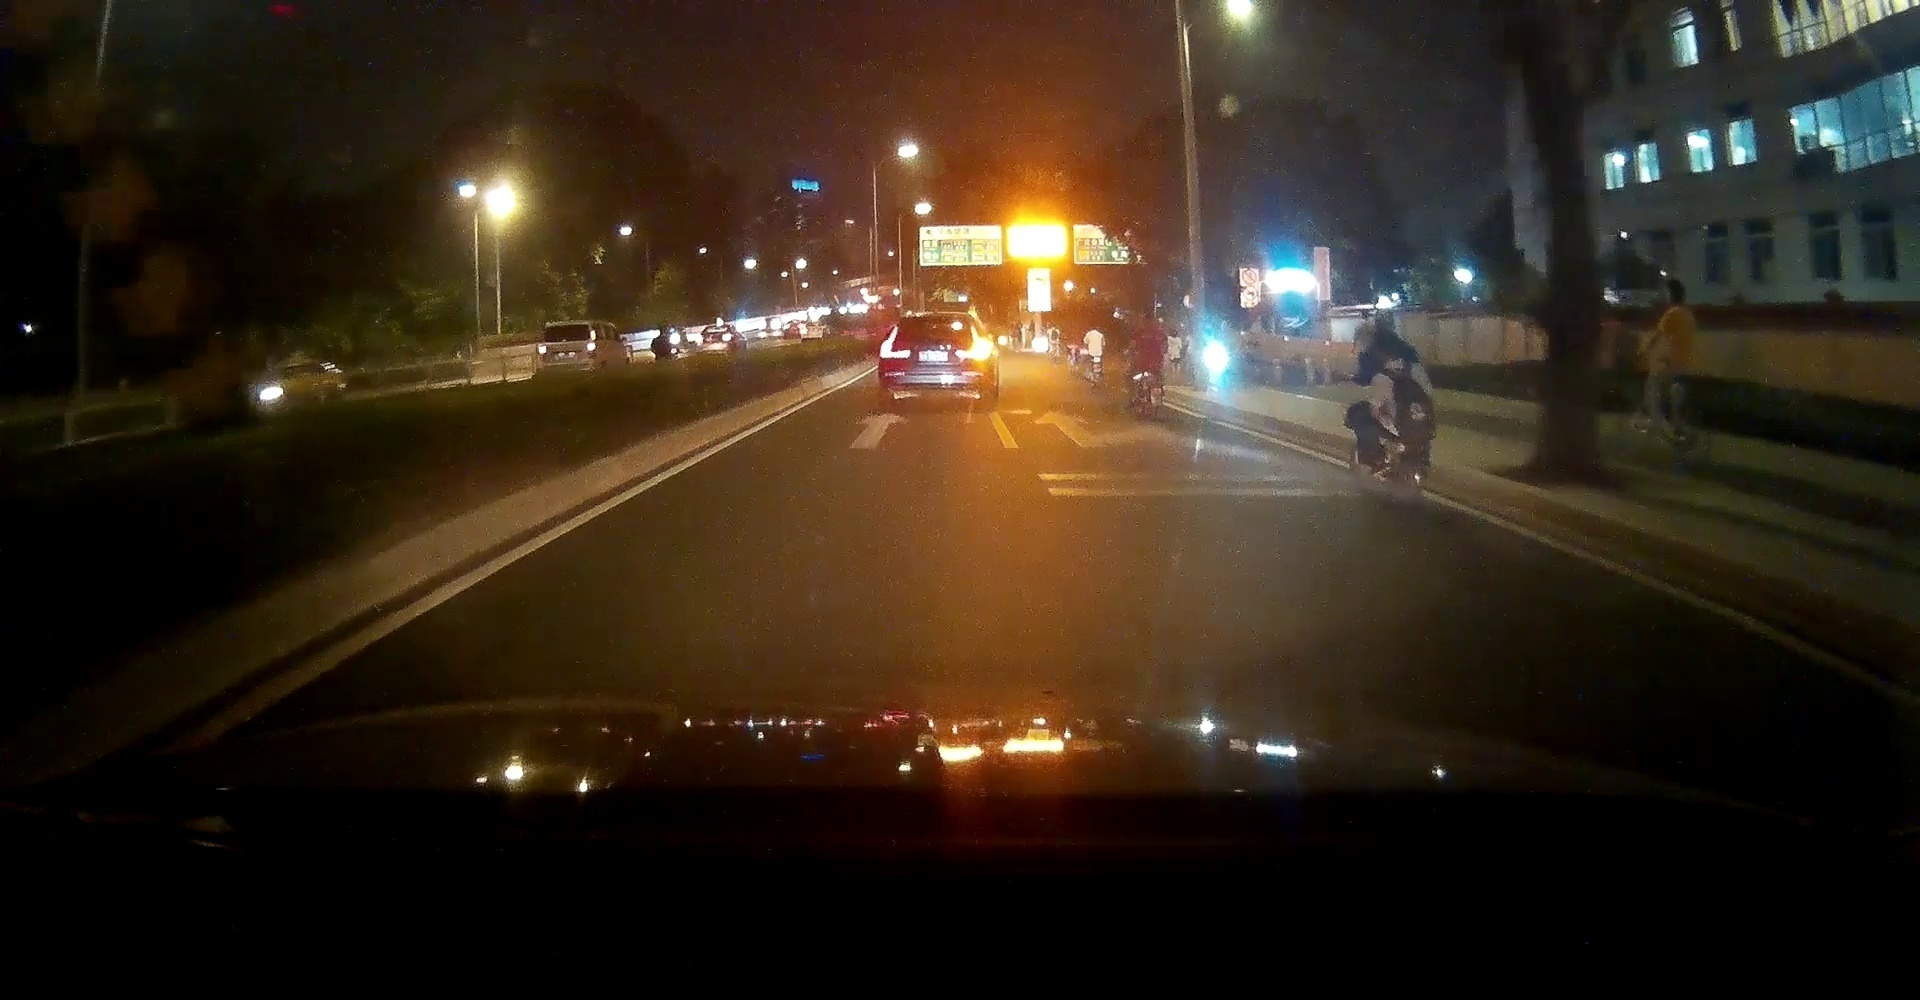L_light: (880, 327, 910, 359)
R_light: (955, 326, 990, 360)
T_light: (922, 316, 940, 322)
night-right: (877, 312, 994, 400)
